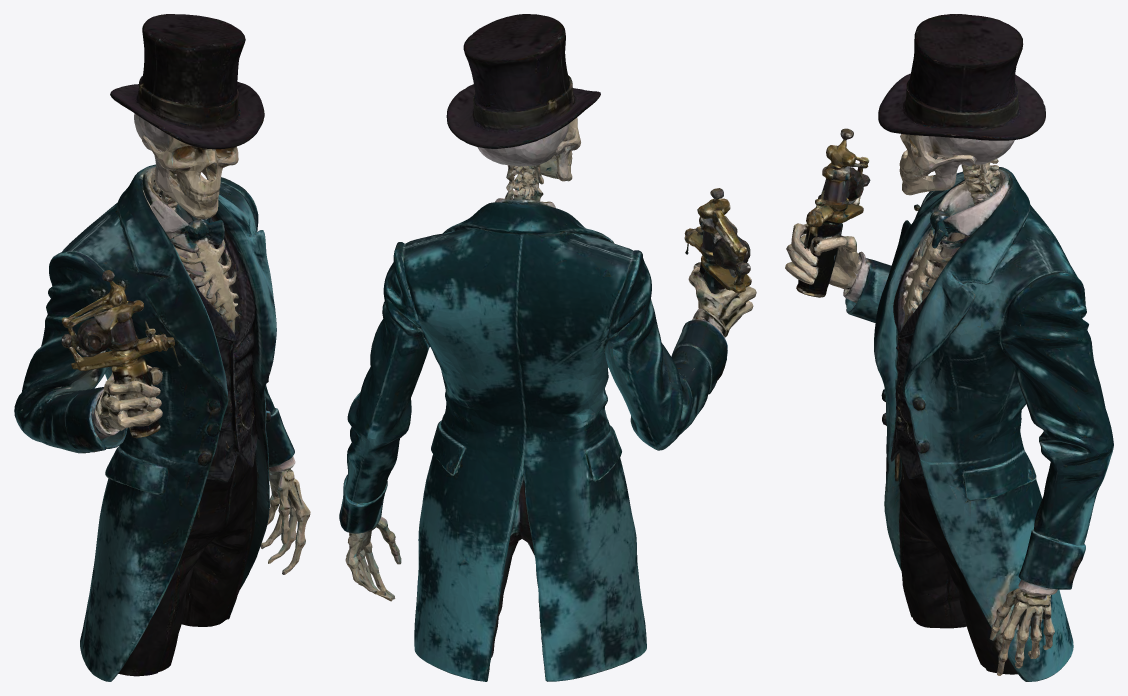
File: 01_Lord_Archibald.glb
3 renders of one model, left to right at view 1: azimuth 30°, elevation 25°; view 2: azimuth 150°, elevation 25°; view 3: azimuth 270°, elevation 25°, orthographic.
Visible parts, largest first — view 1: world; view 2: world; view 3: world.
Boxes of the visible parts, x1,y1,x2,y2 form: world: [14, 14, 310, 681]; world: [339, 14, 756, 681]; world: [785, 14, 1113, 681].
Bounding box in the file's own units: 1.09 × 1.99 × 0.9618.
1 material, 1 textured.
